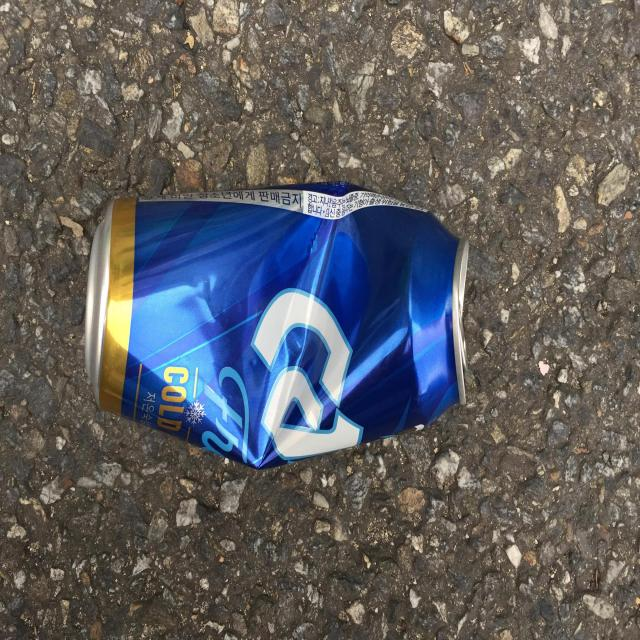can: (85, 183, 469, 469)
